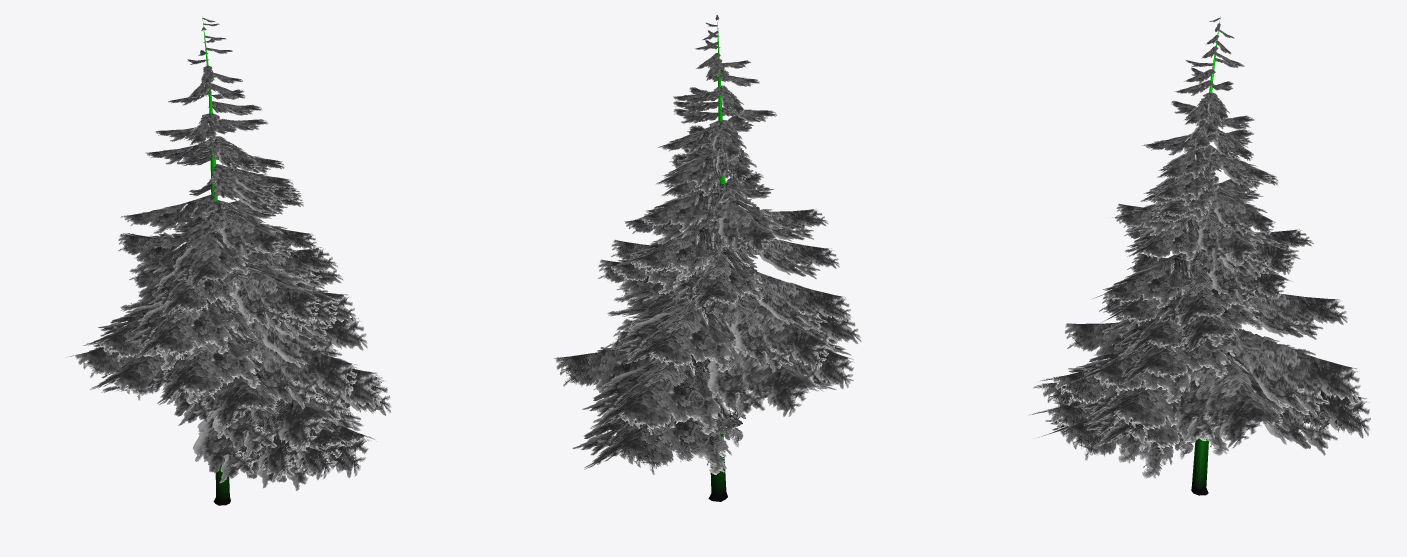
The model's file is tree_generated2.fbx.
3 renders of one model, left to right at view 1: azimuth 30°, elevation 25°; view 2: azimuth 150°, elevation 25°; view 3: azimuth 270°, elevation 25°, orthographic. The views are drawn at different scales.
Visible parts, largest first — view 1: Tree 1 LOD 0; view 2: Tree 1 LOD 0; view 3: Tree 1 LOD 0.
Part boxes in pixels (x1,y1,x2,y2): Tree 1 LOD 0: [65, 16, 391, 505]; Tree 1 LOD 0: [554, 15, 861, 501]; Tree 1 LOD 0: [1029, 16, 1370, 495].
Bounding box in the file's own units: 1147 × 1466 × 1199.
